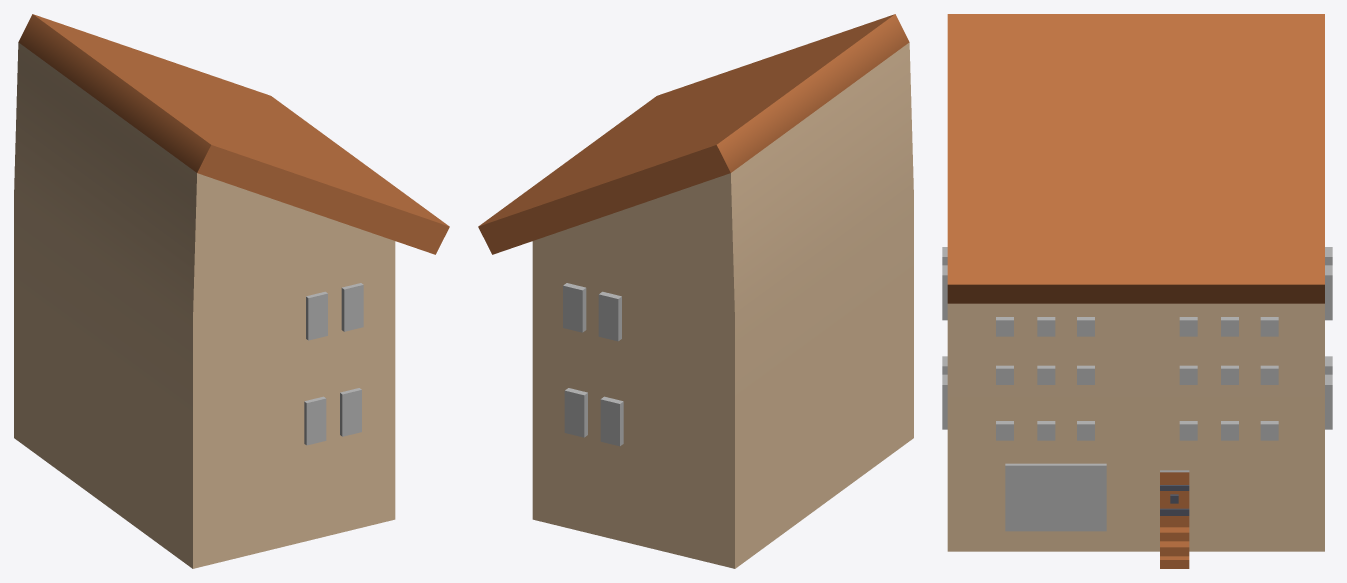
Rendered from BigHouse.fbx.
3 renders of one model, left to right at view 1: azimuth 30°, elevation 25°; view 2: azimuth 150°, elevation 25°; view 3: azimuth 270°, elevation 25°, orthographic. The views are drawn at different scales.
Parts seen in each view (by area): view 1: pCube13, pCube19, pCube80, pCube20, pCube79; view 2: pCube13, pCube30, pCube81, pCube82, pCube33; view 3: pCube13, pCube14, pCube23, pCube29.
Boxes of the visible parts, box(x1,y1,x2,y2) form: pCube13: box(14, 14, 449, 568); pCube19: box(304, 396, 326, 445); pCube80: box(341, 283, 363, 331); pCube20: box(340, 388, 361, 436); pCube79: box(306, 291, 327, 340); pCube13: box(478, 14, 913, 568); pCube30: box(564, 388, 587, 437); pCube81: box(563, 283, 586, 332); pCube82: box(598, 291, 621, 341); pCube33: box(600, 396, 623, 446); pCube13: box(947, 14, 1324, 551); pCube14: box(1005, 463, 1106, 531); pCube23: box(1160, 470, 1189, 527); pCube29: box(1160, 527, 1189, 568).
Bounding box in the file's own units: 10.6 × 16.57 × 13.21.
